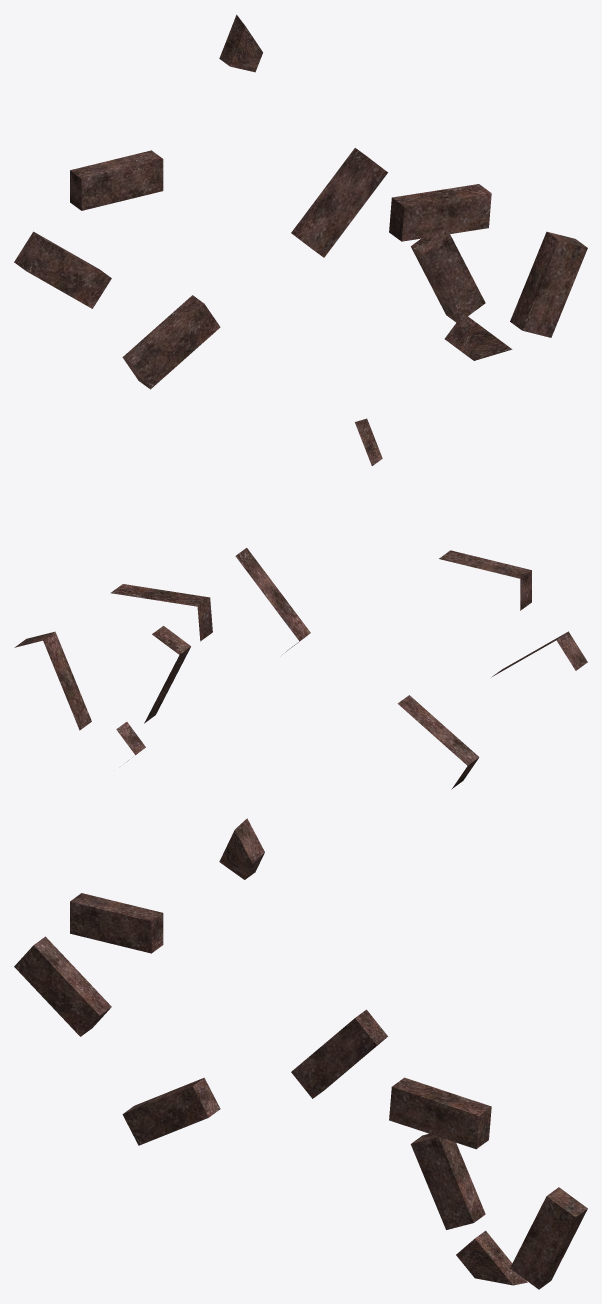
The model's file is prop_redbrick_debris_04.glb.
3 renders of one model, top to bottom at view 1: azimuth 30°, elevation 25°; view 2: azimuth 150°, elevation 25°; view 3: azimuth 330°, elevation 25°, orthographic.
Size of the model in its own units: 90.55 by 62.29 by 4.87.
1 material, 1 textured.
